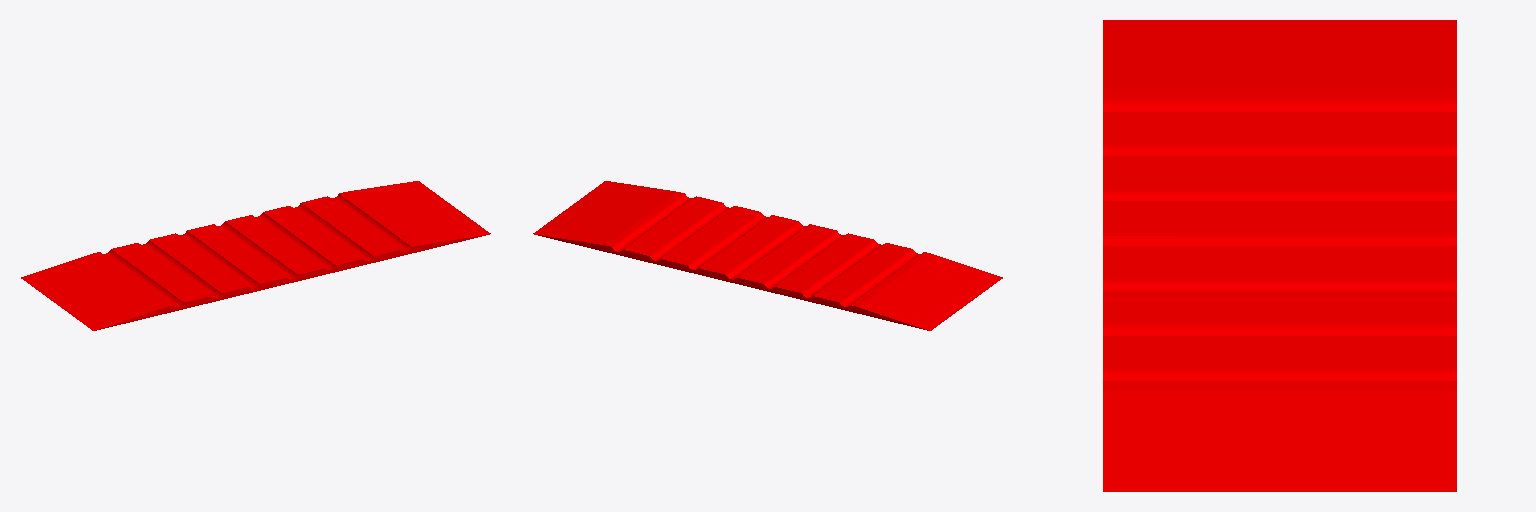
URDF robot description (potholes_robot):
<?xml version="1.0" ?>
<robot name="potholes_robot">
  
  <link name="world">
  </link>
  
  <link concave="yes" name="potholes">
		<contact>
			<lateral_friction value="1.0"/>
			<rolling_friction value="0.0"/>
			<contact_cfm value="0.0"/>
			<contact_erp value="1.0"/>
		</contact>
		<visual>
			<origin xyz="12 0 0" rpy="1.57079 0 0" />
			<geometry>
				<mesh filename="terrain_potholes.stl" scale="1 1 1" />
			</geometry>
			<material name="texture">
				<color rgba="1 0 0 1" />
			</material>
		</visual>
		<collision concave="yes">
			<origin xyz="12 0 0" rpy="1.57079 0 0" />
			<geometry>
				<mesh filename="terrain_potholes.stl" scale="1 1 1" />
			</geometry>
		</collision>
		<inertial>
			<mass value="10.0" />
			<inertia ixx="1.0" ixy="0.0" ixz="0.0" iyy="1.0" iyz="0.0" izz="1.0" />
		</inertial>
	</link>
  
  <joint name="ramp_to_plane" type="fixed">
    <parent link="world"/>
    <child link="potholes"/>
    <origin xyz="0 0 0.01" rpy="0 0 0"/>
  </joint>

</robot>

--- Facts derived from the render (not from the file) ---
Views: 3 orthographic renders of the robot side by side, from view 1: azimuth 30°, elevation 25°; view 2: azimuth 150°, elevation 25°; view 3: azimuth 270°, elevation 25°.
Model potholes_robot with 2 links and 1 joints (1 fixed), rooted at world, posed all joints at 0.
Visible links, largest first — view 1: potholes; view 2: potholes; view 3: potholes.
Link boxes in pixels (<box>): potholes: <box>21,181,490,330</box>; potholes: <box>533,181,1002,330</box>; potholes: <box>1103,20,1456,491</box>.
Bounding box of the posed robot: 31.43 × 10 × 0.5001 m (x, y, z).
1 mesh visuals loaded from 1 distinct referenced files (1 binary STL).